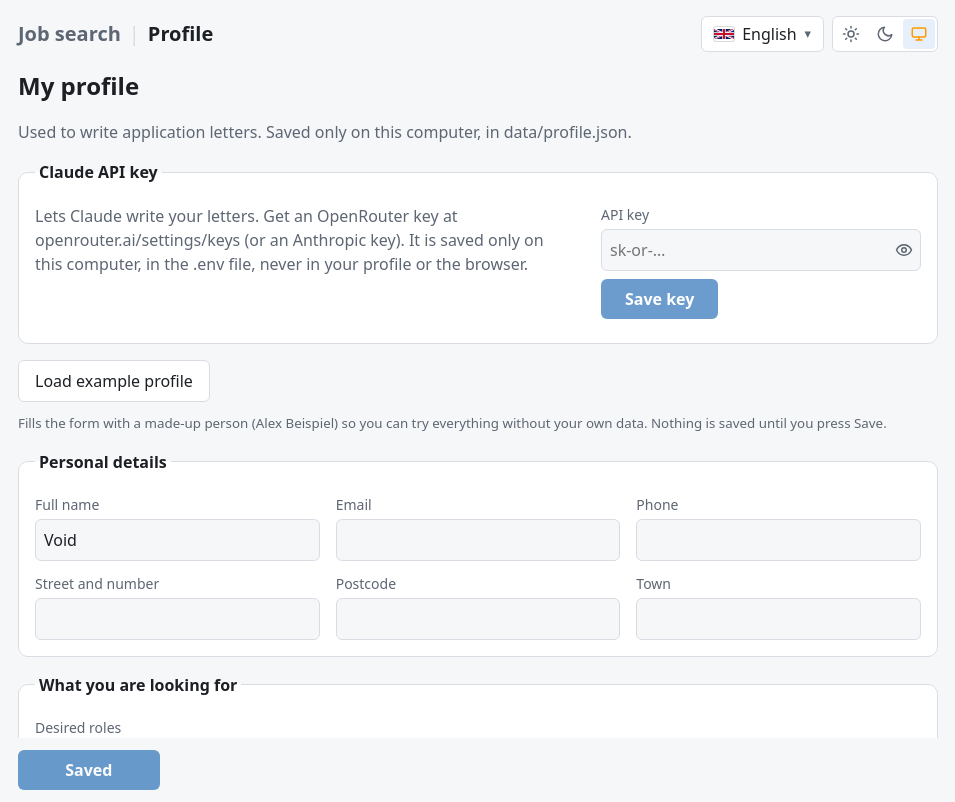
Scenario: profile page › shows save errors
The width and height of the screenshot is (955, 802).
Type "Hamburg" into the field labelled "Town" at [779, 619], box [636,598,921,640]
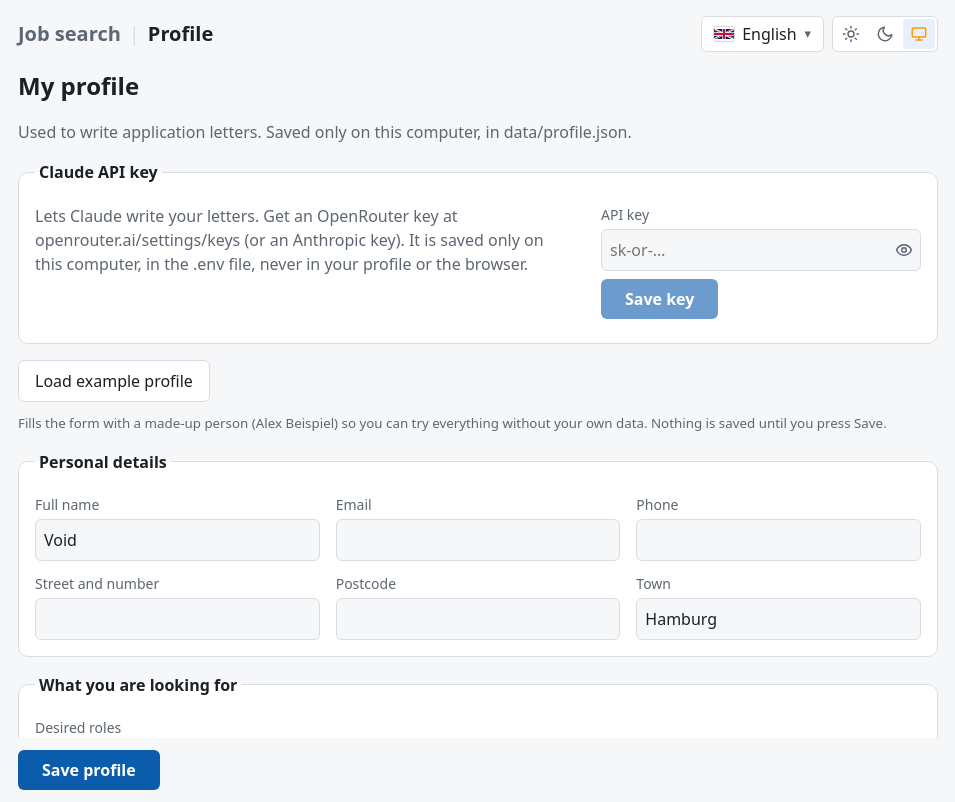
Click the button "Save profile" at [89, 770], box [18,750,160,790]
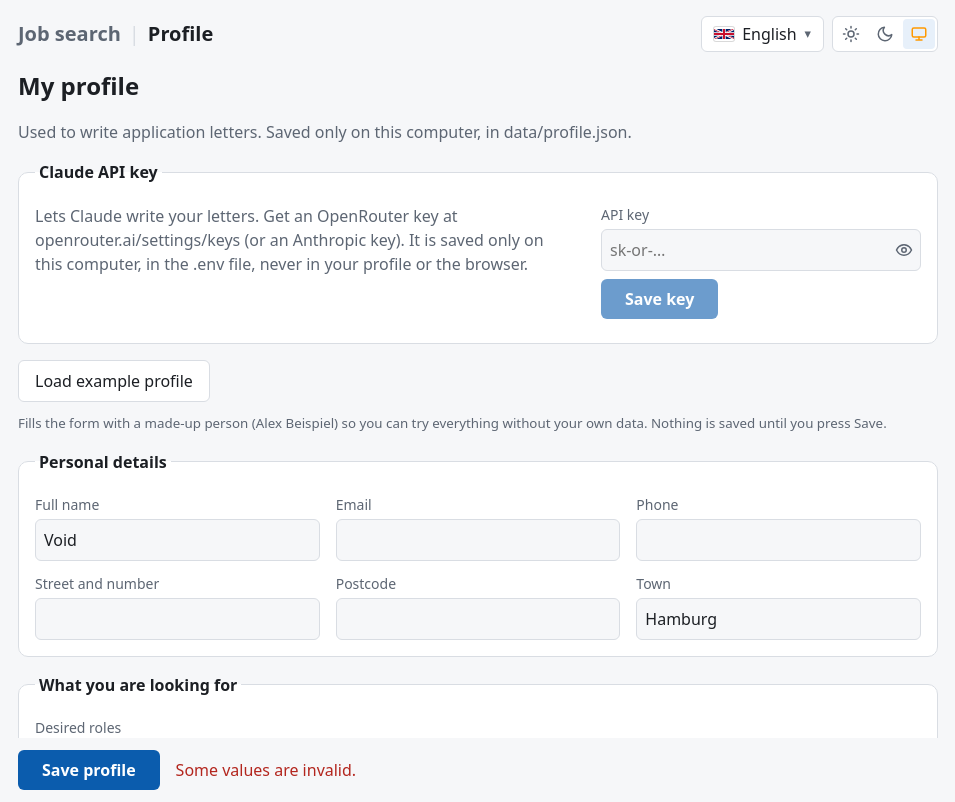
Expected: the text "Some values are invalid." is shown, [176,758,356,782]
